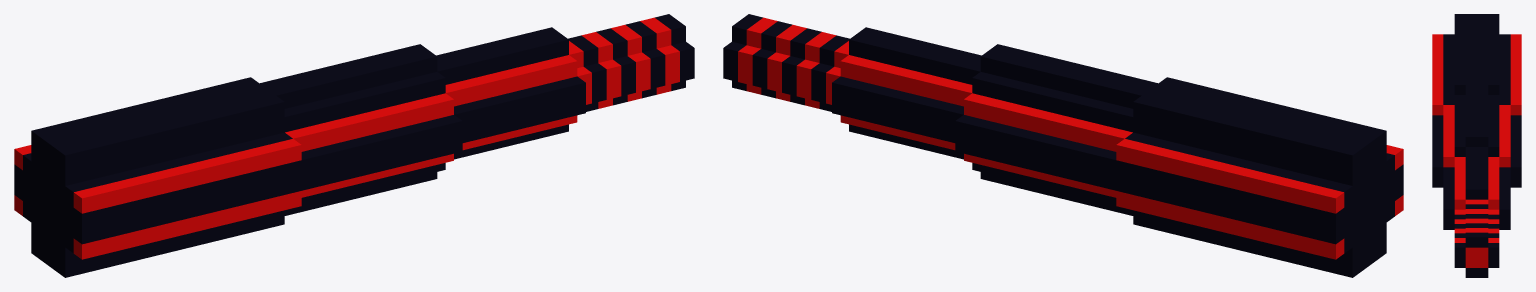
File: TankEnemyMediumNeon-0.obj
The picture shows the model from 3 angles, left to right: view 1: azimuth 30°, elevation 25°; view 2: azimuth 150°, elevation 25°; view 3: azimuth 270°, elevation 25°; orthographic projection. The views are drawn at different scales.
Size of the model in its own units: 4.3 by 0.8 by 0.8.
Materials: 1 (1 with a texture image).
